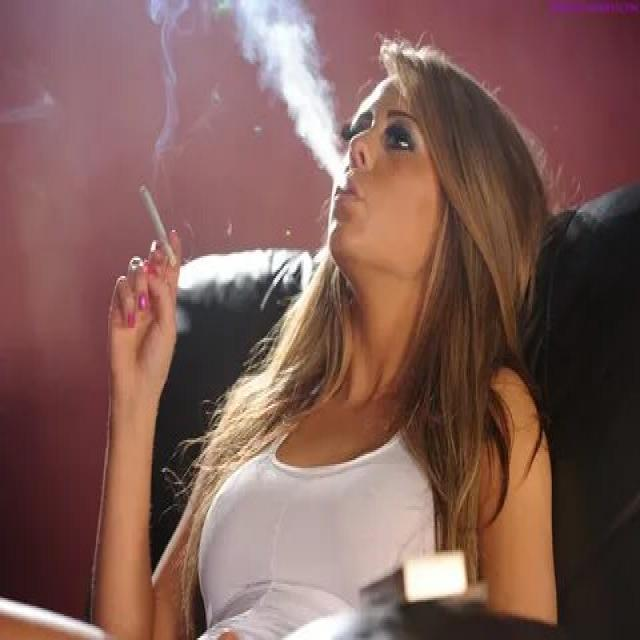smoke: (137, 180, 180, 272)
